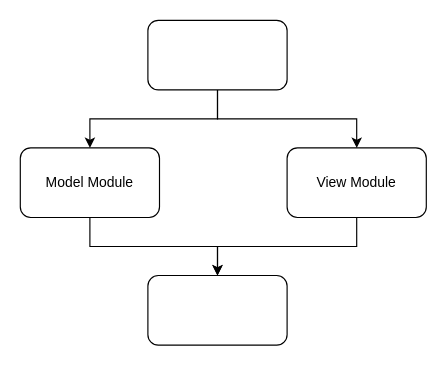
Some shapes in this 447 by 365 pixel diagram are drawn without their labels. Each missing label, with the box of its shape:
Controller Module: (147, 19, 287, 90)
Hardware-Hiding Module: (147, 274, 287, 345)
